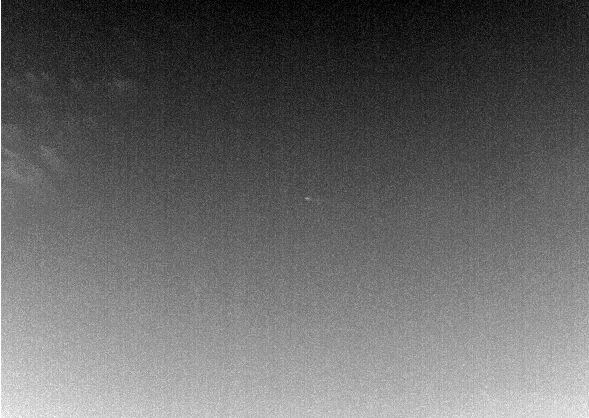dim target: (301, 193, 312, 202)
